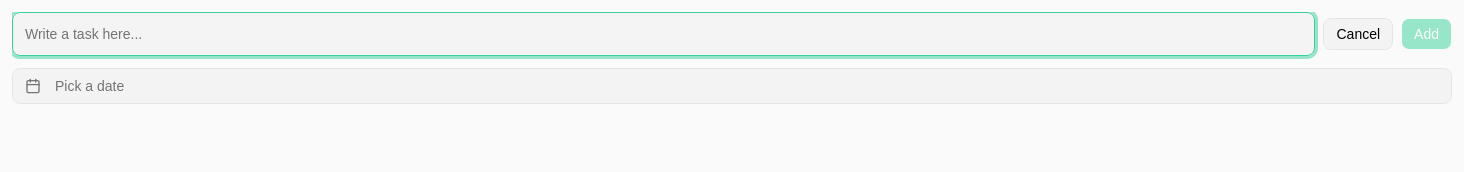
Test: TaskForm › Add button is enabled when title has content
The image size is (1464, 172).
Type "Buy groceries" into the field with placeholder "Write a task here..." at (664, 34), box [12, 12, 1316, 56]
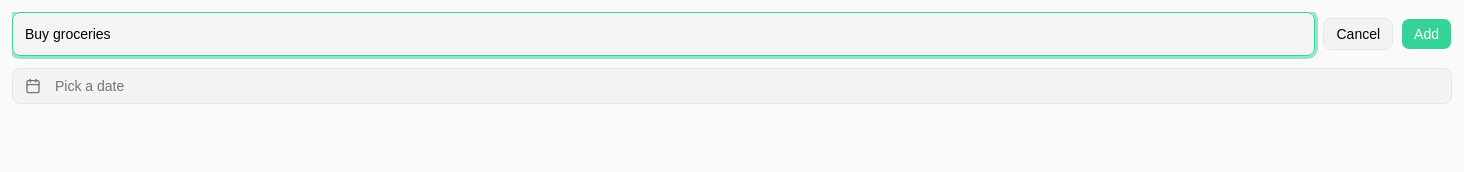
Expected: the button "Add" is enabled, [1401, 18, 1452, 50]
